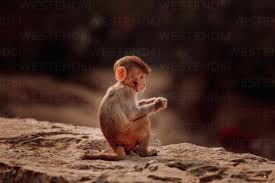monkey: (101, 20, 177, 183)
